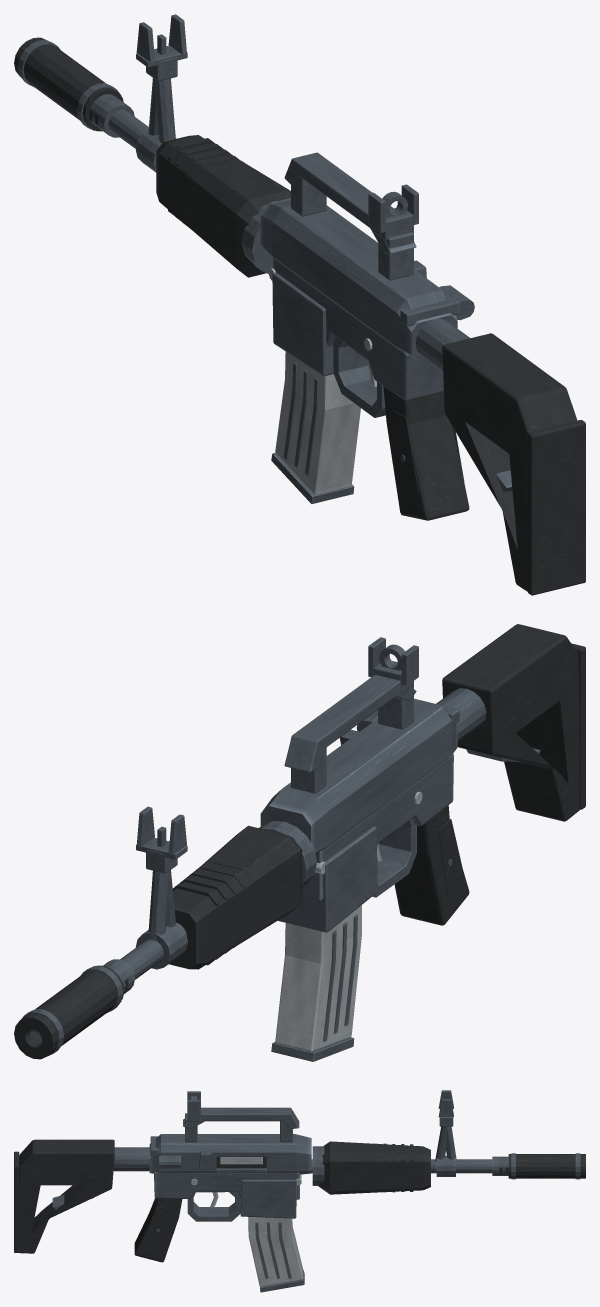
3 renders of one model, top to bottom at view 1: azimuth 30°, elevation 25°; view 2: azimuth 150°, elevation 25°; view 3: azimuth 270°, elevation 25°, orthographic. The views are drawn at different scales.
Visible parts, largest first — view 1: m4a1_Body, m4a1_Magazine, m4a1_Suppressor, m4a1_ChargingHandle; view 2: m4a1_Body, m4a1_Magazine, m4a1_Suppressor; view 3: m4a1_Body, m4a1_Magazine, m4a1_Suppressor, m4a1_Bolt.
Boxes of the visible parts, <box> form: m4a1_Body: <box>89,14,585,595</box>; m4a1_Magazine: <box>271,352,360,503</box>; m4a1_Suppressor: <box>14,37,123,131</box>; m4a1_ChargingHandle: <box>400,297,459,326</box>; m4a1_Body: <box>103,624,585,993</box>; m4a1_Magazine: <box>271,905,361,1061</box>; m4a1_Suppressor: <box>14,965,124,1059</box>; m4a1_Body: <box>14,1090,508,1262</box>; m4a1_Magazine: <box>248,1217,304,1292</box>; m4a1_Suppressor: <box>508,1153,585,1179</box>; m4a1_Bolt: <box>220,1157,262,1164</box>.
Size of the model in its own units: 0.1325 by 0.5478 by 1.48.
3 materials, 3 textured.
